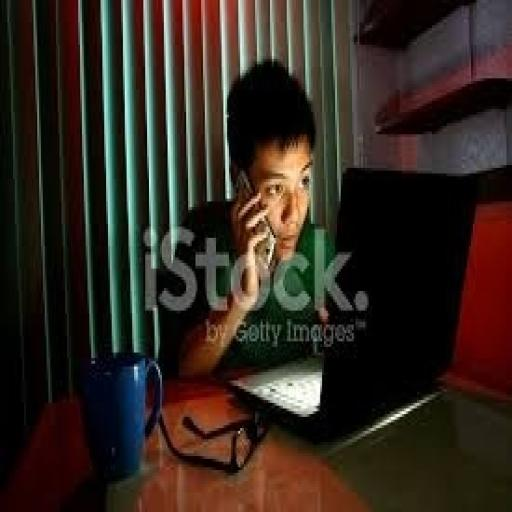texting: (166, 56, 333, 380)
